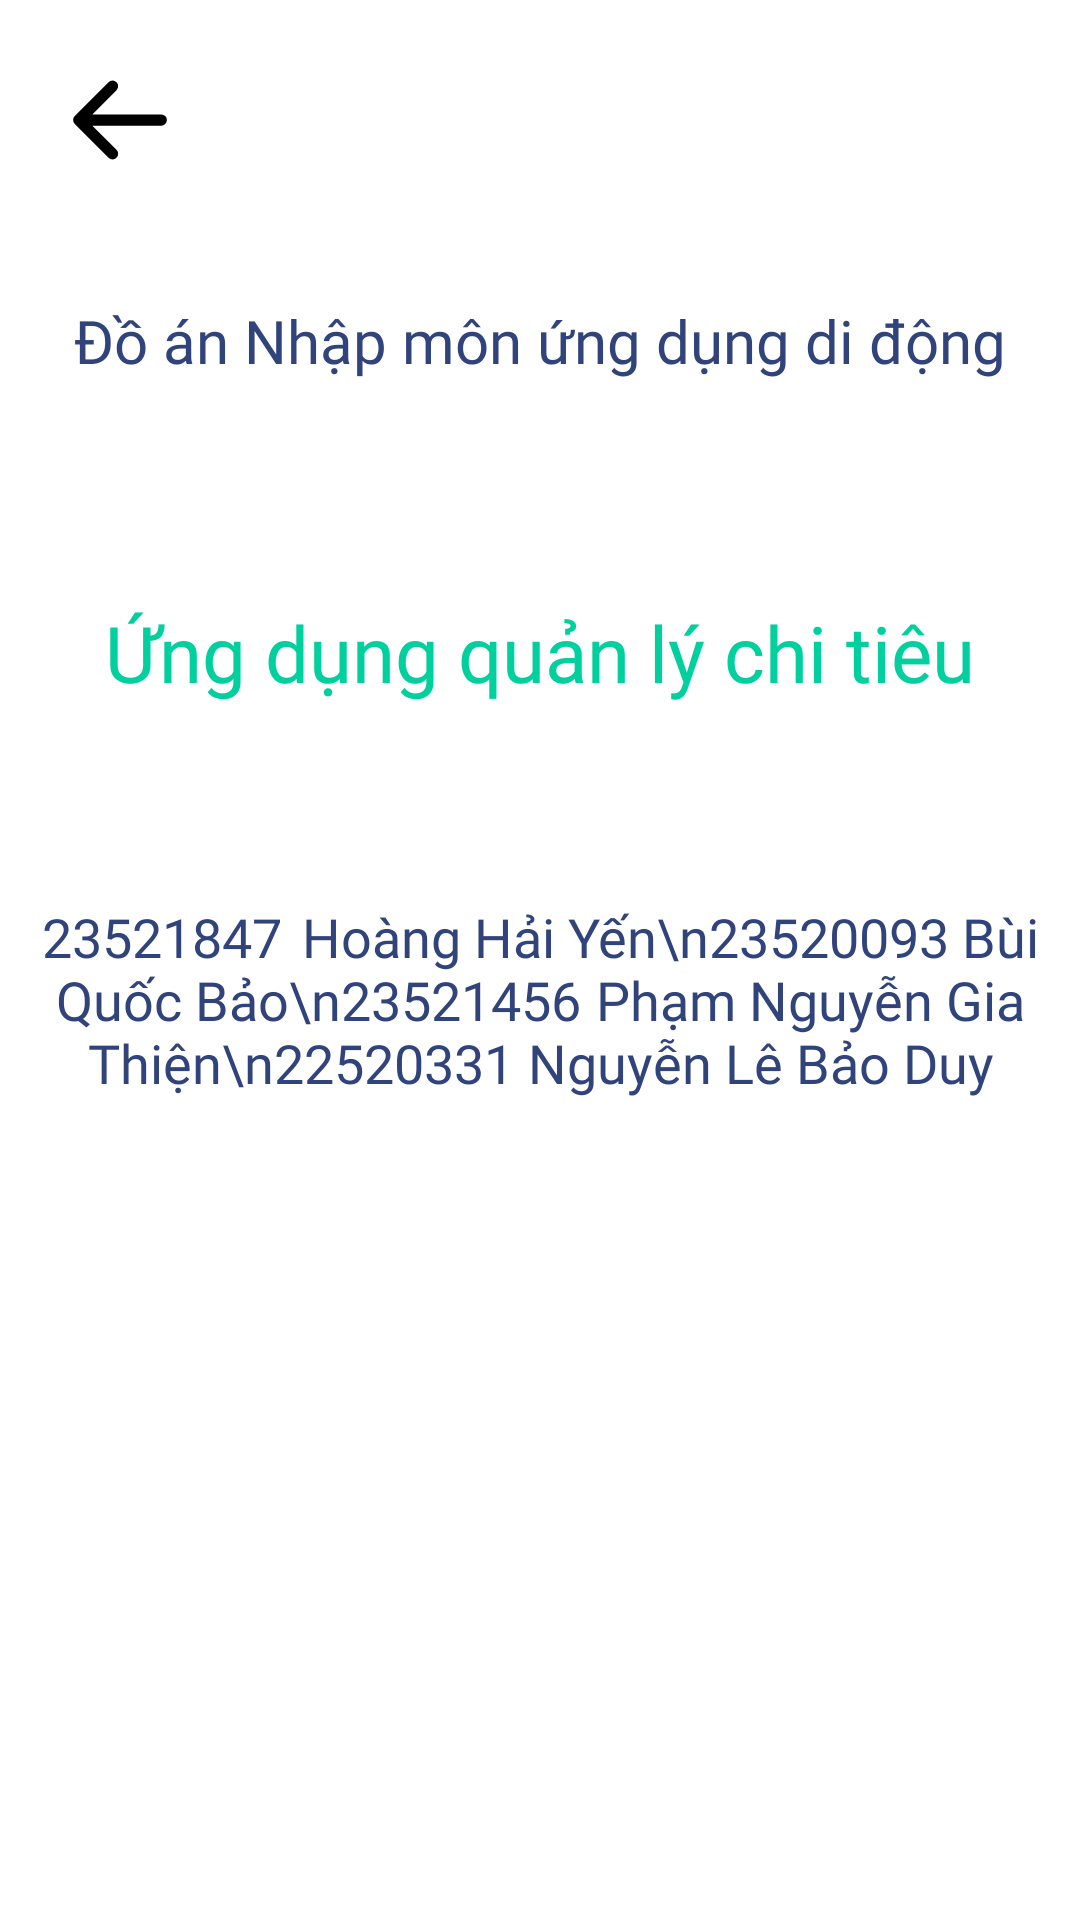

Locate icon controls on the screen. Image size 1080 × 1920, boxes as box(x1, y1, x2, y2).
arrow left: box(73, 80, 167, 160)
